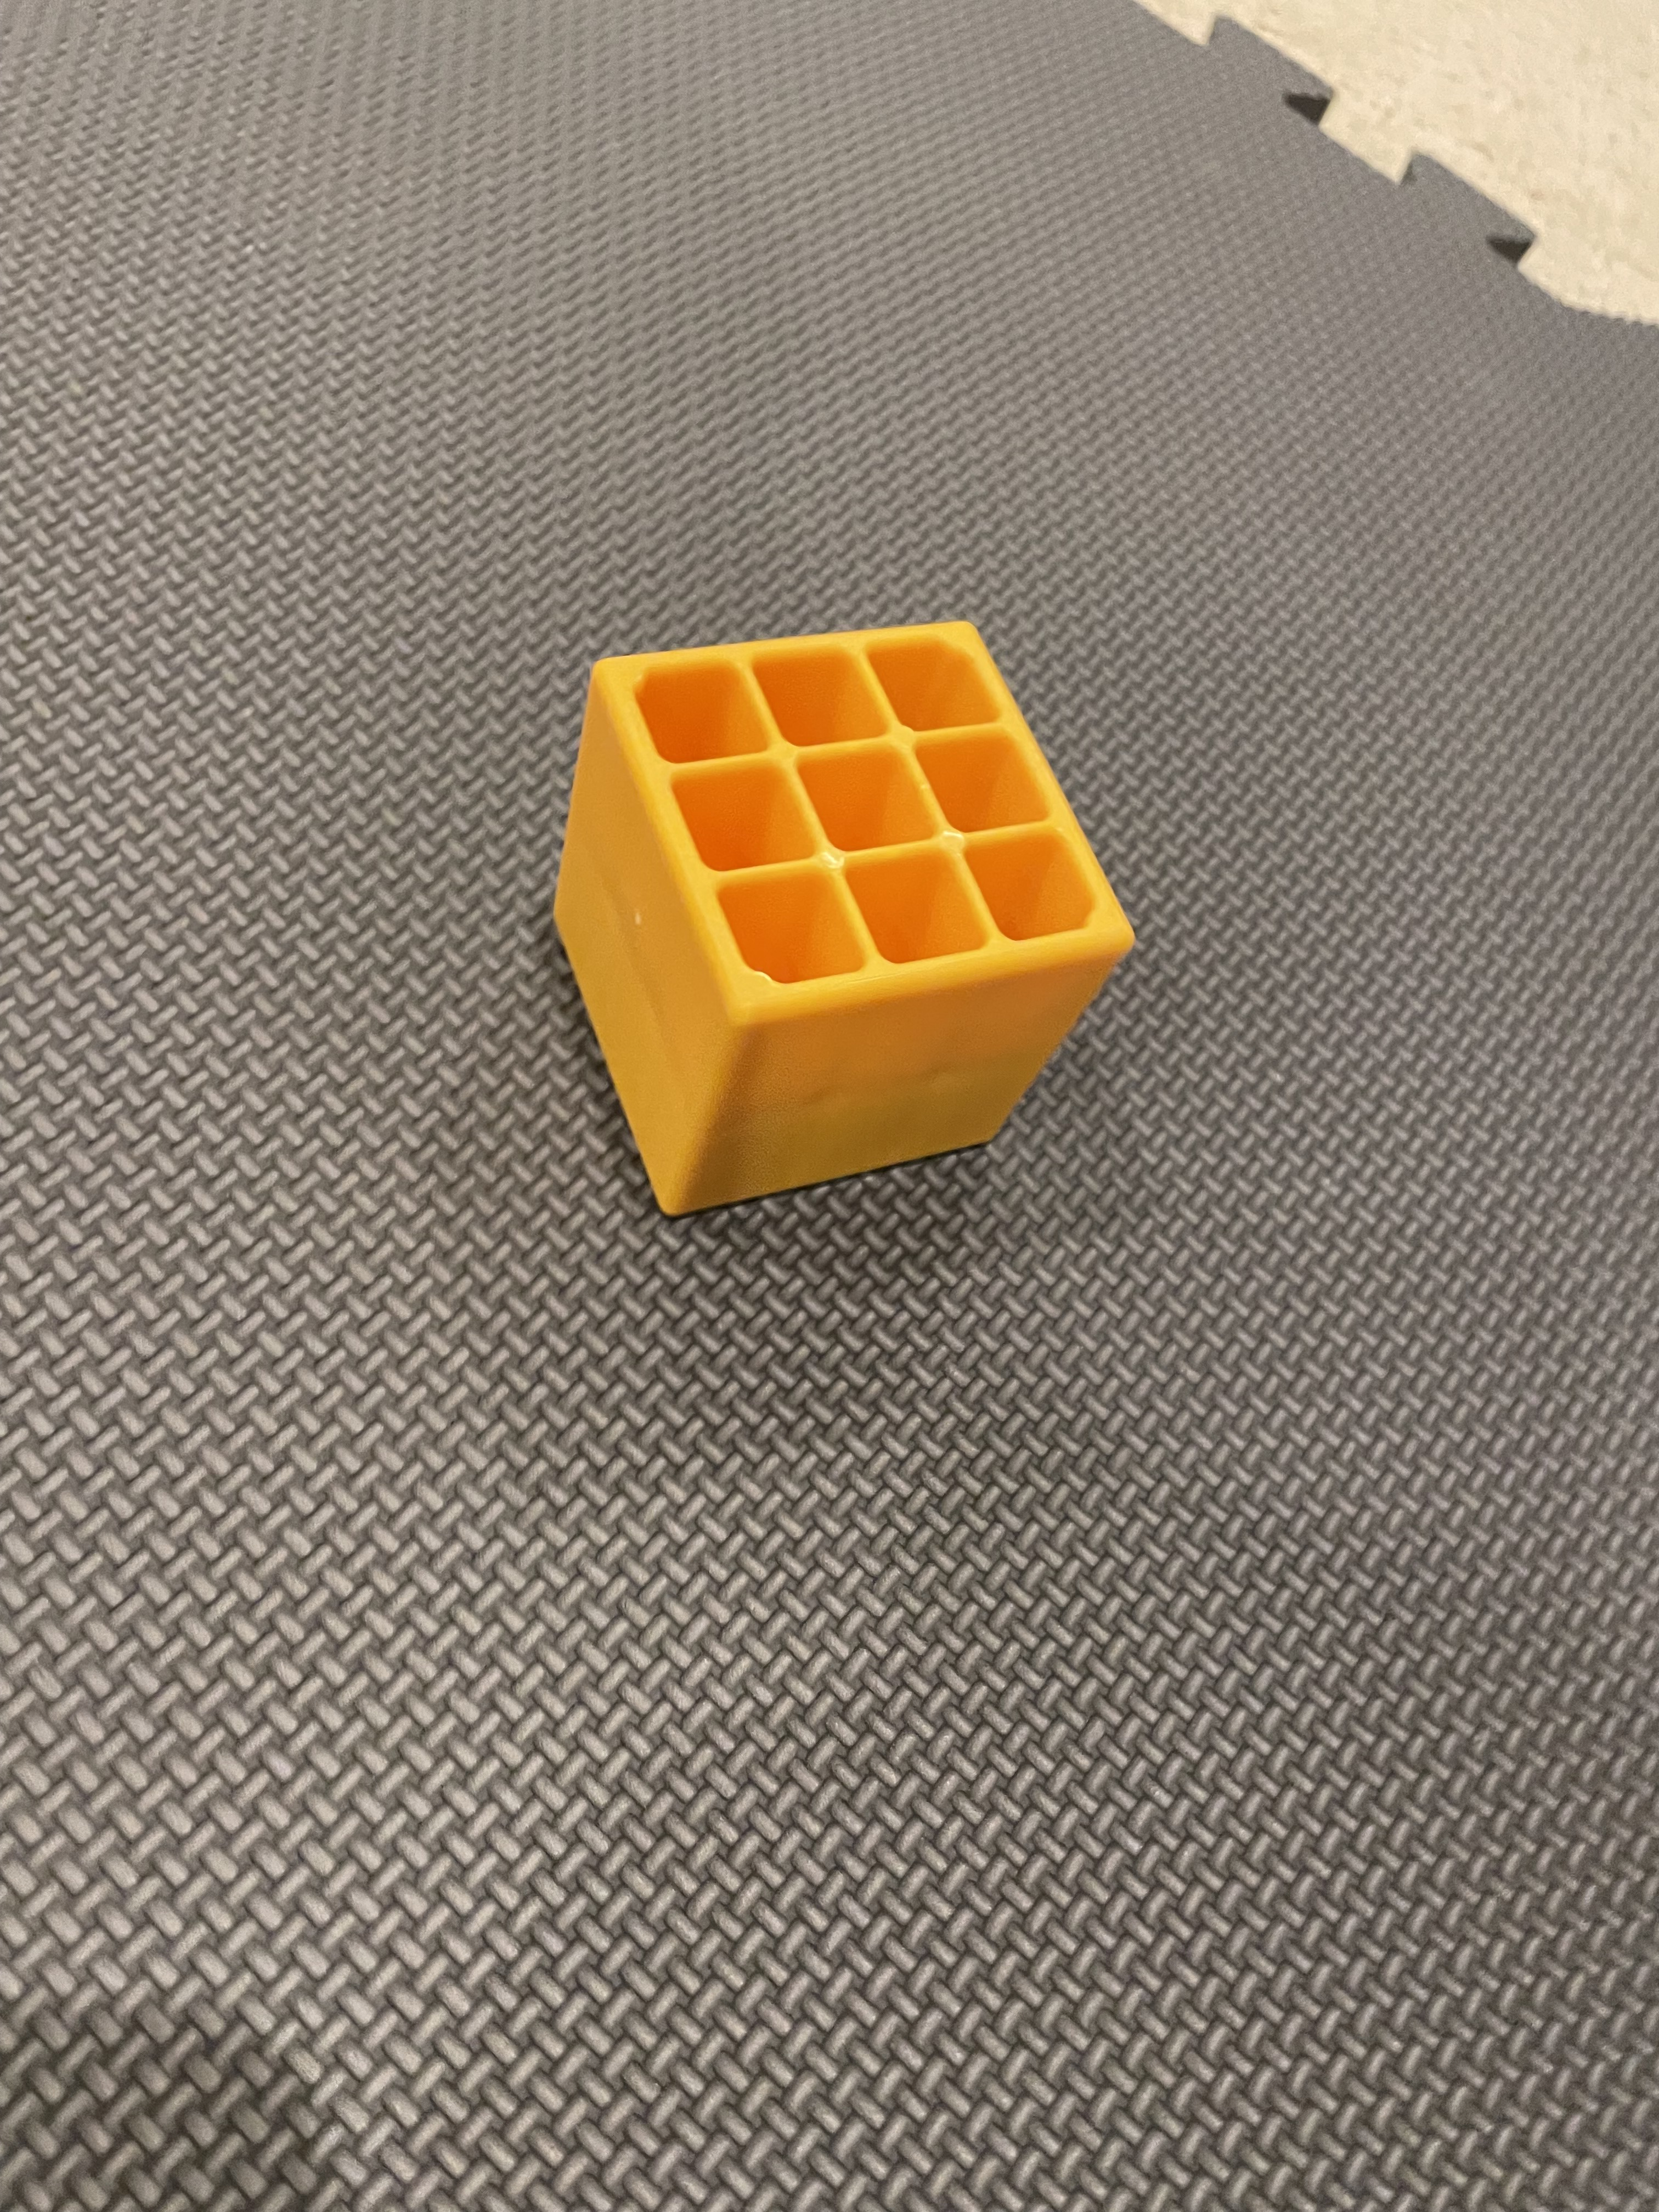cube: (457, 521, 1188, 1282)
